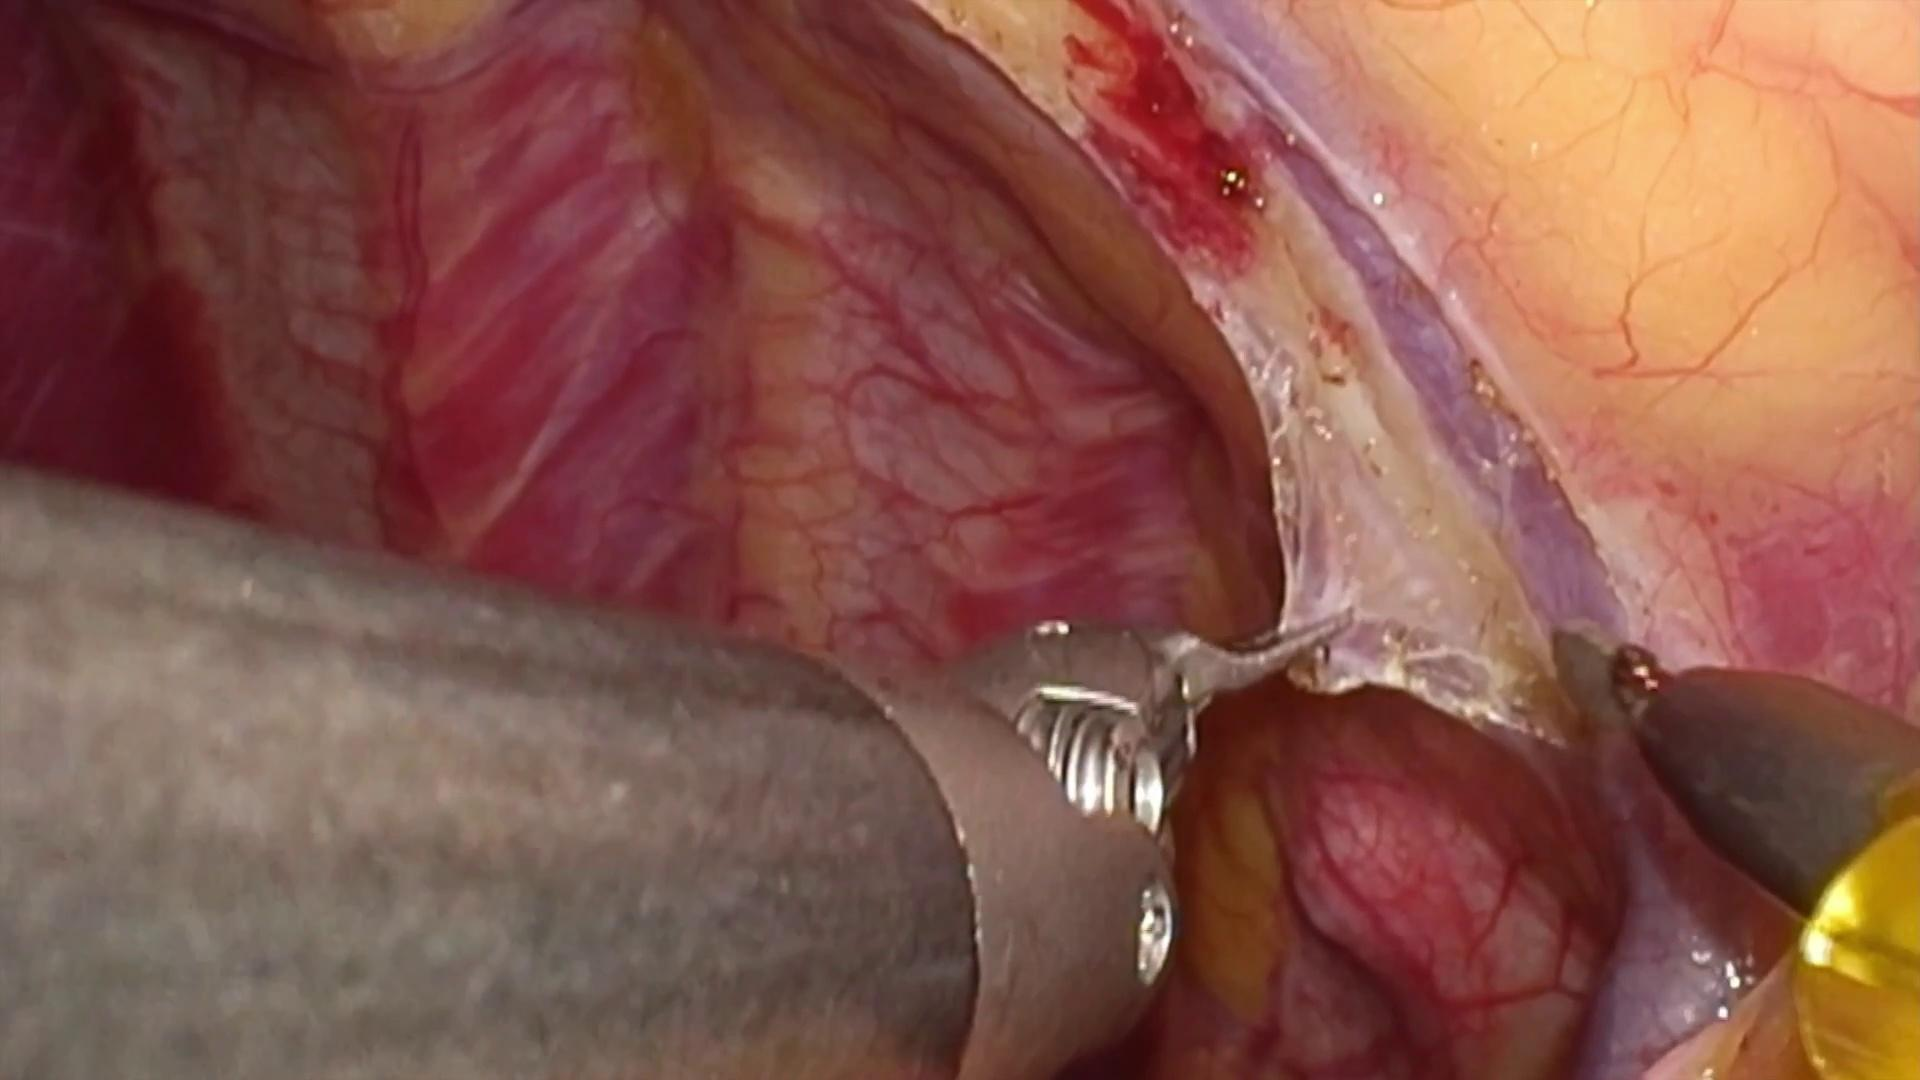Cautery_Spatula: (1544, 612, 1920, 905)
Debakey: (1138, 611, 1353, 741)
